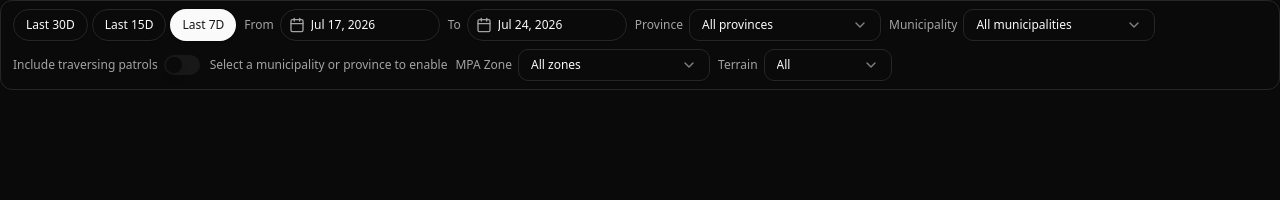
Scenario: ReportFilterBar › renders a Province select with 'All provinces' plus the 3 distinct provinces
Click the dropdown with test id "report-province": (785, 25) top-left (689, 9), bottom-right (881, 41)
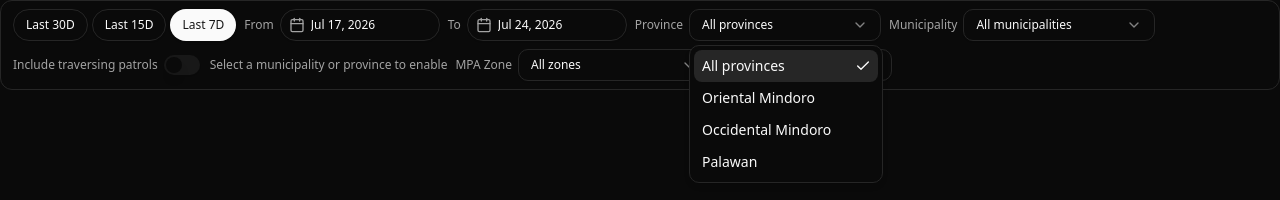
Result: the text "All provinces" is shown 2 times at top-left (702, 17), bottom-right (773, 33); top-left (702, 56), bottom-right (785, 76)
Result: the text "Oriental Mindoro" is shown at top-left (702, 88), bottom-right (815, 108)
Result: the text "Occidental Mindoro" is shown at top-left (702, 120), bottom-right (831, 140)
